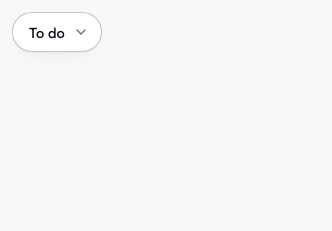
Test: Select › is named by its label and current value, and picks an option with the mouse
Click the button with aria-label "Status, To do" at (57, 32), box [12,12,102,52]
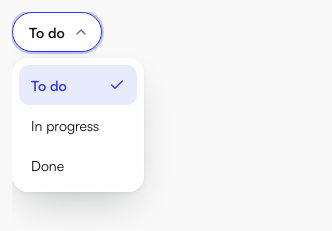
Click the option "Done" at (48, 165), box [31,156,64,174]
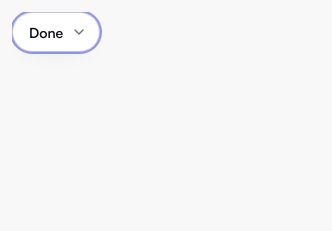
Check: the list is gone
